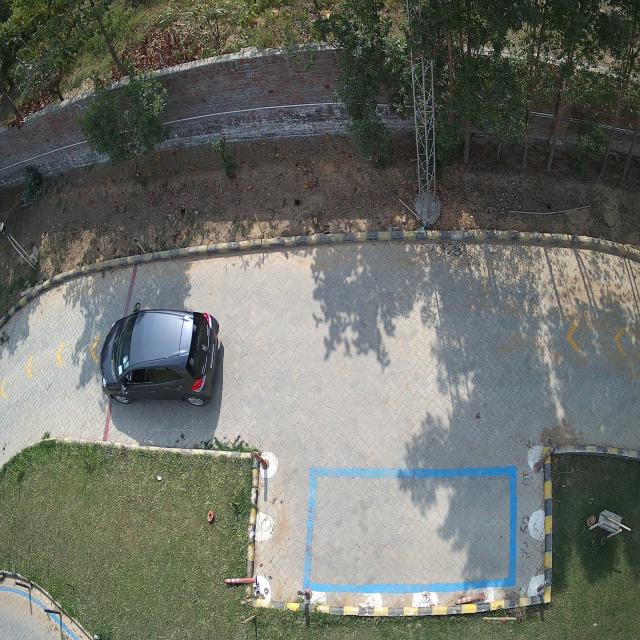car: (100, 303, 219, 407)
